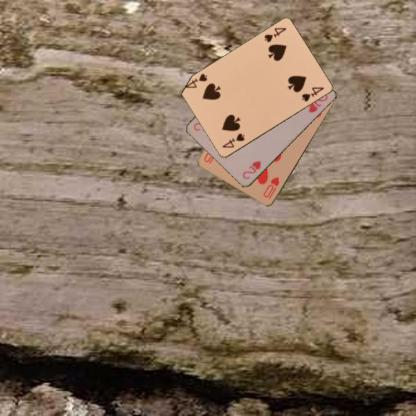10h: (260, 175, 280, 201)
2h: (240, 158, 262, 181)
4s: (261, 25, 288, 44), (220, 131, 246, 149)
